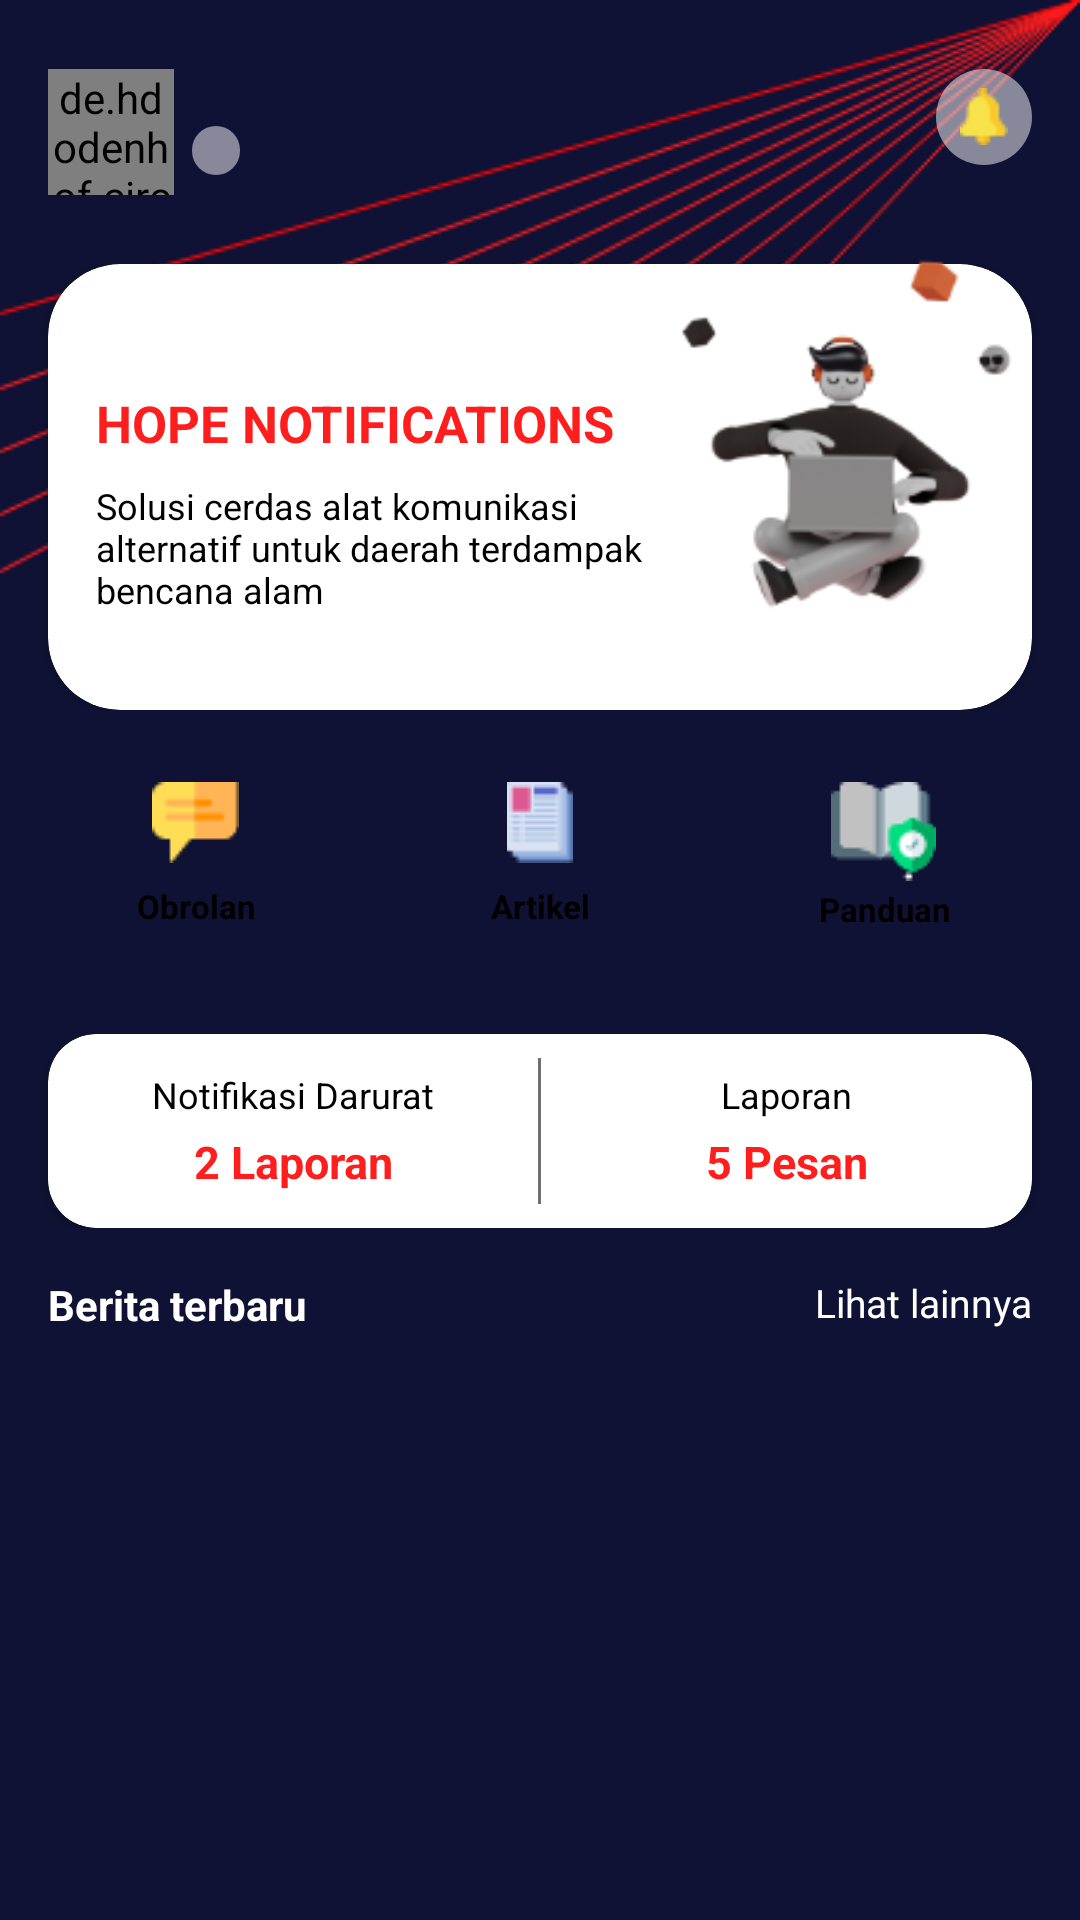

Icons on this 1080 x 1920 Android screen, each with its box as Rect(x1, y1, x2, y2):
notif: Rect(960, 88, 1008, 145)
